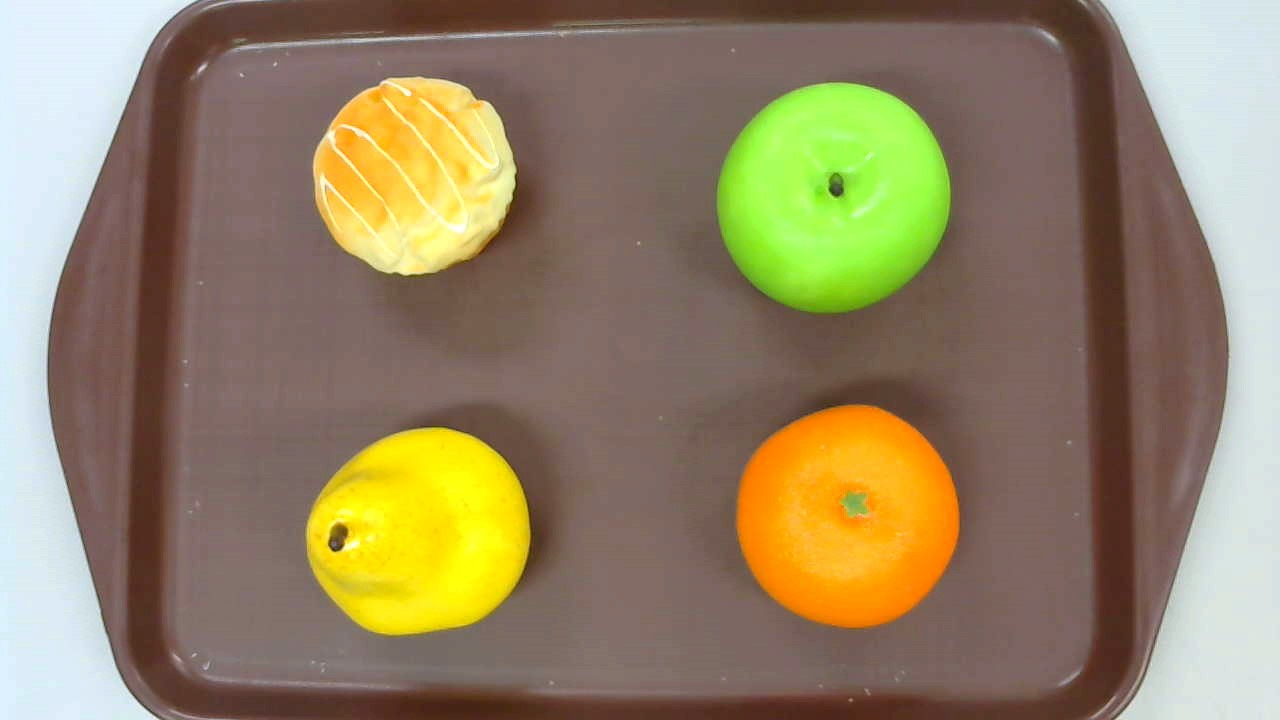cupcake: (313, 77, 519, 277)
green apple: (715, 80, 949, 314)
orange: (736, 403, 960, 629)
yellow pear: (305, 426, 532, 637)
